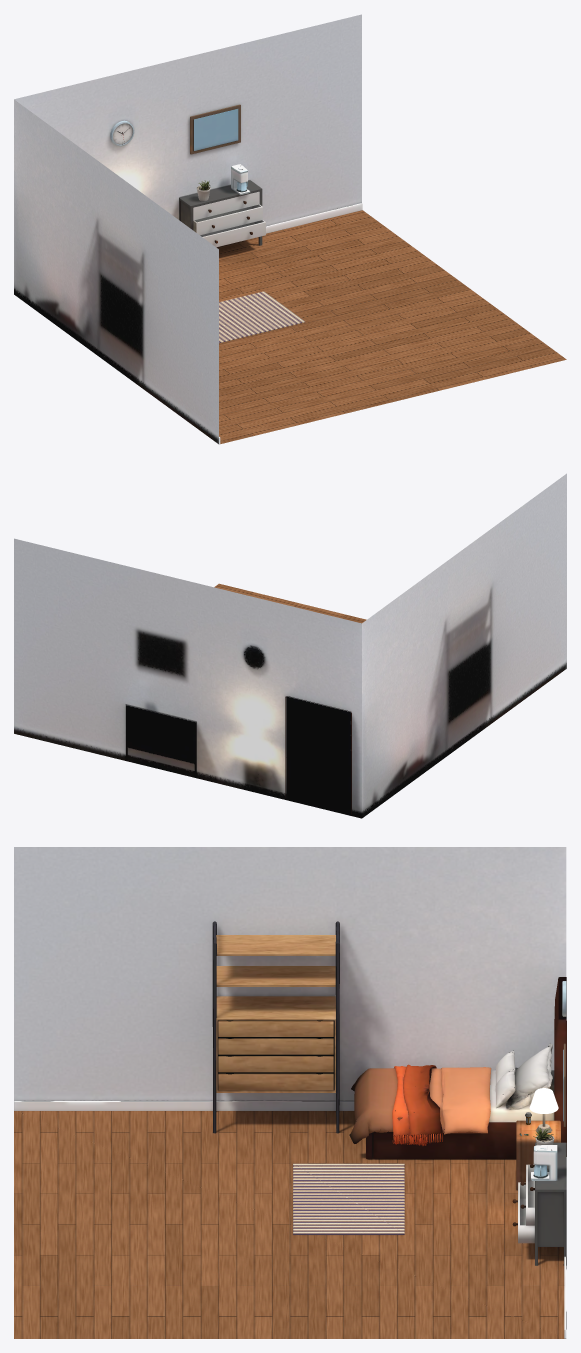
File: escenario_tardio-DWcnju2A.glb
The picture shows the model from 3 angles, top to bottom: view 1: azimuth 30°, elevation 25°; view 2: azimuth 150°, elevation 25°; view 3: azimuth 270°, elevation 25°; orthographic projection. The views are drawn at different scales.
Visible parts, largest first — view 1: Pared_fondo, Piso, Mueble_Dresser, Alfombra, Cuadro, Zocalo_fondo, Cuadro_marco; view 2: Pared_fondo, Piso; view 3: Pared_fondo, Piso, Mueble_Dresser, Cuadro_marco, Alfombra, Zocalo_fondo, Mesa_noche, Mueble_KA_CoffeeMaker_V1.
Part boxes in pixels (box(x1,y1,x2,y2)): Pared_fondo: box(14, 14, 361, 444); Piso: box(216, 210, 566, 443); Mueble_Dresser: box(179, 180, 265, 247); Alfombra: box(219, 291, 305, 343); Cuadro: box(193, 109, 238, 150); Zocalo_fondo: box(219, 203, 362, 444); Cuadro_marco: box(190, 104, 240, 154); Pared_fondo: box(14, 473, 566, 818); Piso: box(214, 583, 366, 623); Pared_fondo: box(14, 847, 566, 1100); Piso: box(14, 1111, 565, 1338); Mueble_Dresser: box(349, 977, 566, 1265); Cuadro_marco: box(212, 921, 565, 1133); Alfombra: box(293, 1163, 404, 1234); Zocalo_fondo: box(14, 1101, 566, 1338); Mesa_noche: box(516, 1120, 560, 1190); Mueble_KA_CoffeeMaker_V1: box(531, 1145, 557, 1180).
Bounding box in the file's own units: 4.85 × 2.6 × 4.95.
13 materials, 12 textured.
